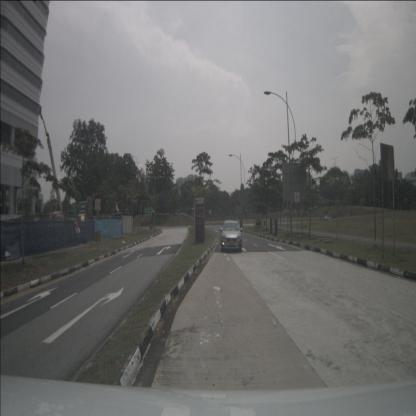vehicle-car: (221, 221, 242, 252), (324, 214, 336, 223)
